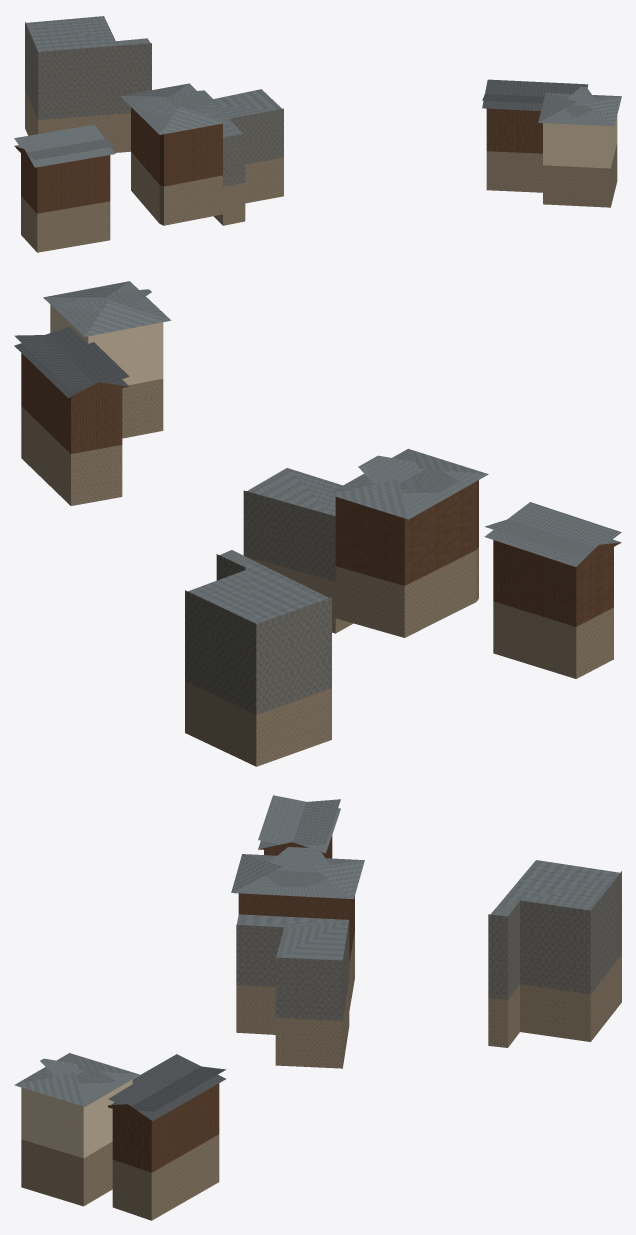
Rendered from bld_c38_36_291.gltf.
The picture shows the model from 3 angles, top to bottom: view 1: azimuth 30°, elevation 25°; view 2: azimuth 150°, elevation 25°; view 3: azimuth 270°, elevation 25°; orthographic projection. The views are drawn at different scales.
Parts seen in each view (by area): view 1: bld_c38_36_291; view 2: bld_c38_36_291; view 3: bld_c38_36_291.
Boxes of the visible parts, x1,y1,x2,y2 form: bld_c38_36_291: (14,16,621,252); bld_c38_36_291: (14,281,621,766); bld_c38_36_291: (14,795,621,1220).
Bounding box in the file's own units: 69.78 × 15.5 × 58.56.
8 materials, 8 textured.
